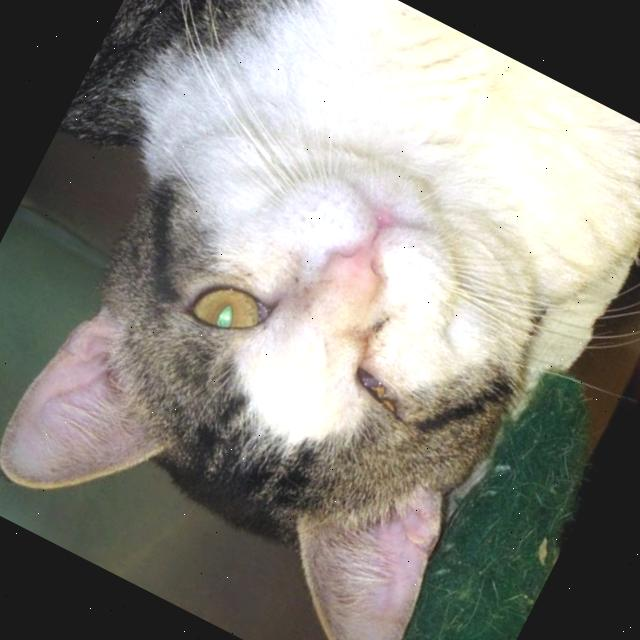cat-eye: (328, 314, 464, 447)
cat-eye-normal: (146, 231, 302, 374)
